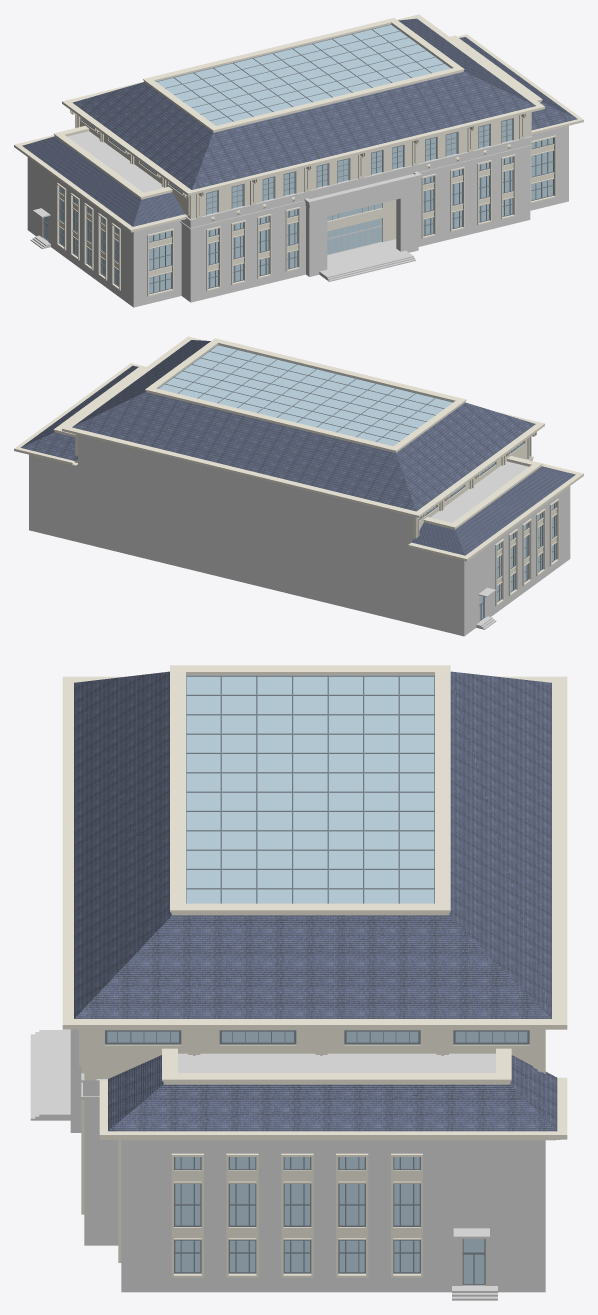
The model's file is dalou3D.gltf.
The picture shows the model from 3 angles, top to bottom: view 1: azimuth 30°, elevation 25°; view 2: azimuth 150°, elevation 25°; view 3: azimuth 270°, elevation 25°; orthographic projection. The views are drawn at different scales.
Parts seen in each view (by area): view 1: 办公楼20; view 2: 办公楼20; view 3: 办公楼20.
Boxes of the visible parts, bbox=[...] form: 办公楼20: bbox=[14, 14, 583, 307]; 办公楼20: bbox=[14, 336, 583, 636]; 办公楼20: bbox=[30, 665, 567, 1300].
Bounding box in the file's own units: 68.12 × 20.93 × 34.91.
Materials: 10 (1 with a texture image).
